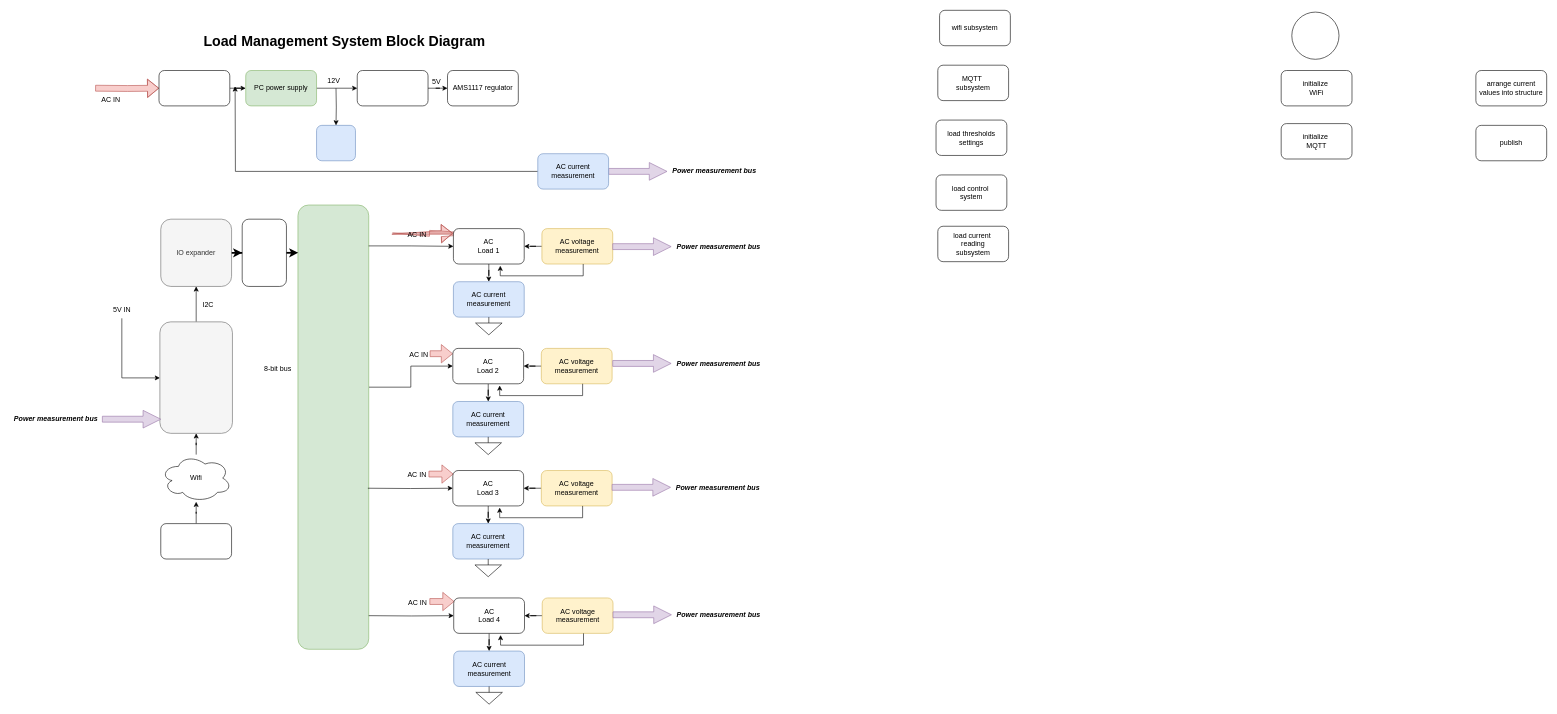
This 1557x714 diagram has some shape labels left out. Here are the shapes that lost their labels. From the top down, the box of each, then its label:
(1291, 12, 1339, 59): start
(158, 70, 230, 106): ON.OFF Rocker Switch
(357, 70, 428, 106): LM2595 regulator
(316, 125, 355, 161): Indicator LED
(242, 219, 286, 286): BJT relay bank
(159, 321, 232, 433): ESP32 Microcontroller
(297, 204, 369, 649): 4 channel relay module
(160, 523, 232, 559): Operator dashboard
